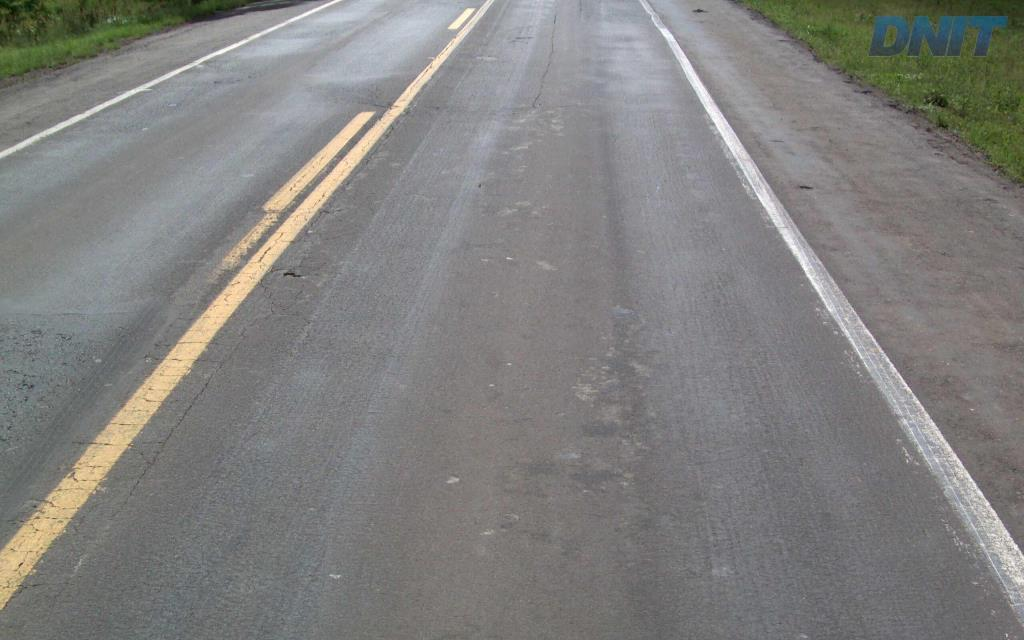pothole: (277, 266, 306, 278)
